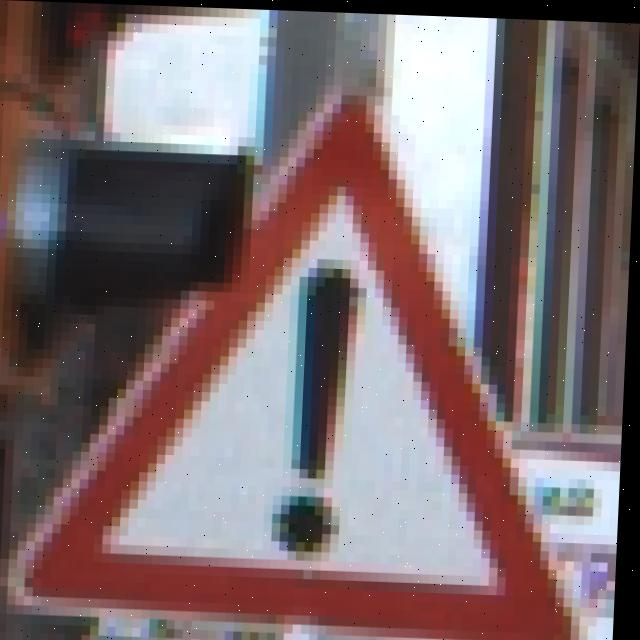warning: (31, 128, 583, 632)
